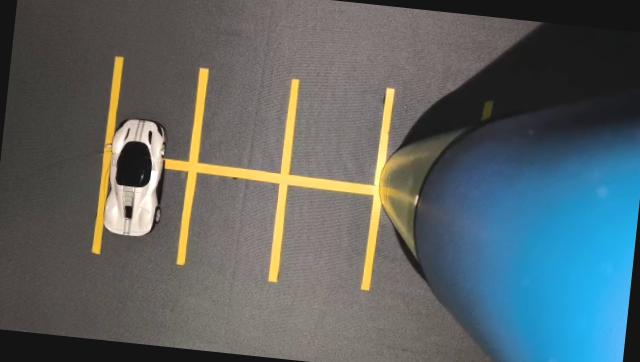toy_car: (86, 92, 206, 256)
